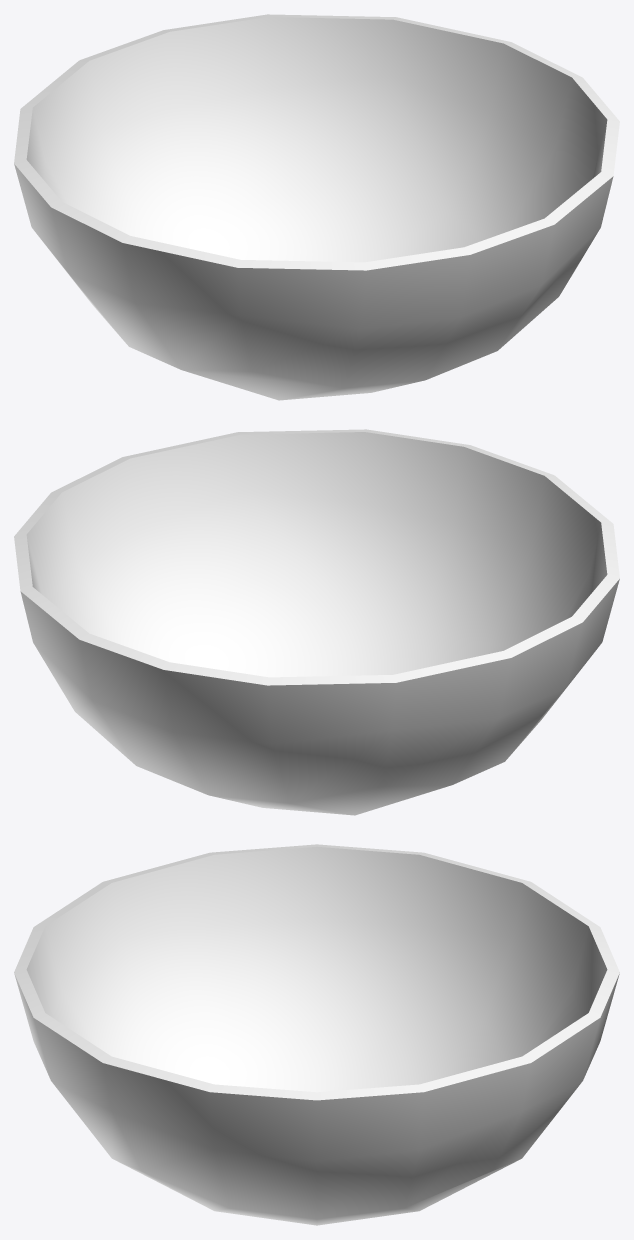
Rendered from LP_bowl.glb.
3 views of the same model, one above another, from view 1: azimuth 30°, elevation 25°; view 2: azimuth 150°, elevation 25°; view 3: azimuth 270°, elevation 25° (orthographic).
Visible parts, largest first — view 1: LP_bowl.001; view 2: LP_bowl.001; view 3: LP_bowl.001.
Part boxes in pixels (x1,y1,x2,y2): LP_bowl.001: (14, 14, 619, 400); LP_bowl.001: (14, 429, 619, 815); LP_bowl.001: (14, 844, 619, 1225).
Bounding box in the file's own units: 0.19 × 0.0775 × 0.19.
Materials: 1 (1 with a texture image).
